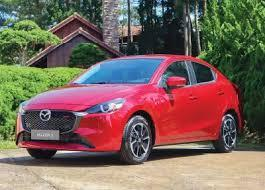mazda: (40, 109, 51, 121)
